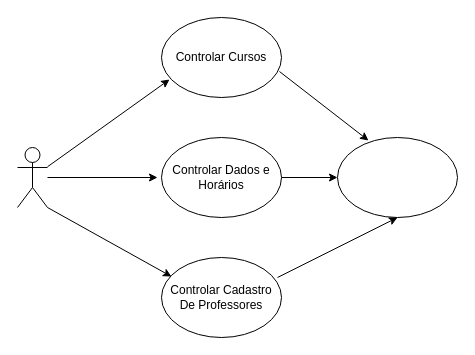
Some shapes in this 475 by 355 pixel diagram are drawn without their labels. The shapes that lost their labels are listed below. From the top down, each one's centre as x and y in pixels, then its label:
At point 32,177: "Dono".
At point 397,177: "Oferecer Cursos".
